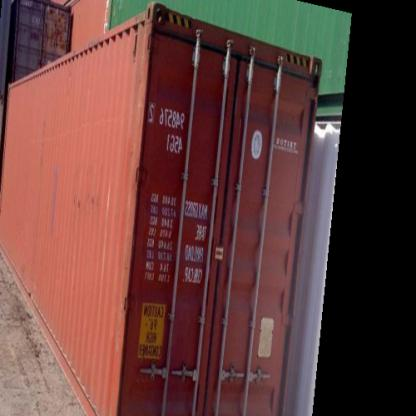Damage: (169, 299, 199, 369), (45, 161, 61, 238), (66, 191, 108, 211)
